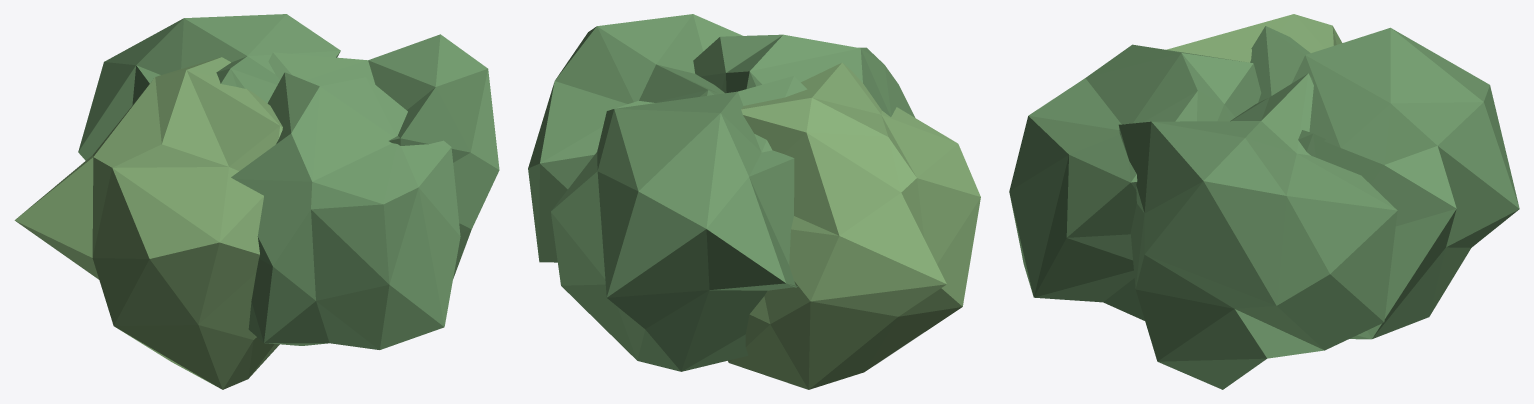
File: nature_bush_02.glb
3 renders of one model, left to right at view 1: azimuth 30°, elevation 25°; view 2: azimuth 150°, elevation 25°; view 3: azimuth 270°, elevation 25°, orthographic. The views are drawn at different scales.
Visible parts, largest first — view 1: geometry_0; view 2: geometry_0; view 3: geometry_0.
Boxes of the visible parts, x1=… form: geometry_0: x1=14, y1=14, x2=499, y2=389; geometry_0: x1=528, y1=14, x2=980, y2=389; geometry_0: x1=1009, y1=14, x2=1519, y2=389.
Bounding box in the file's own units: 2.52 × 1.64 × 2.5.
